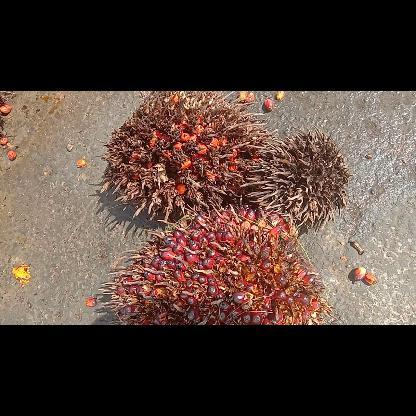Janjang kosong: (240, 125, 350, 235)
TBS masak: (98, 204, 333, 324)
Terlalu masak: (93, 91, 277, 221)
